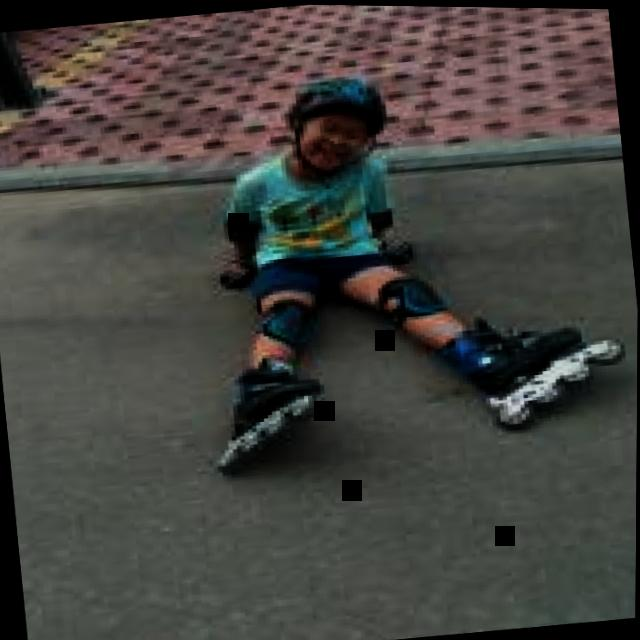Fall-Detected: (181, 32, 632, 479)
